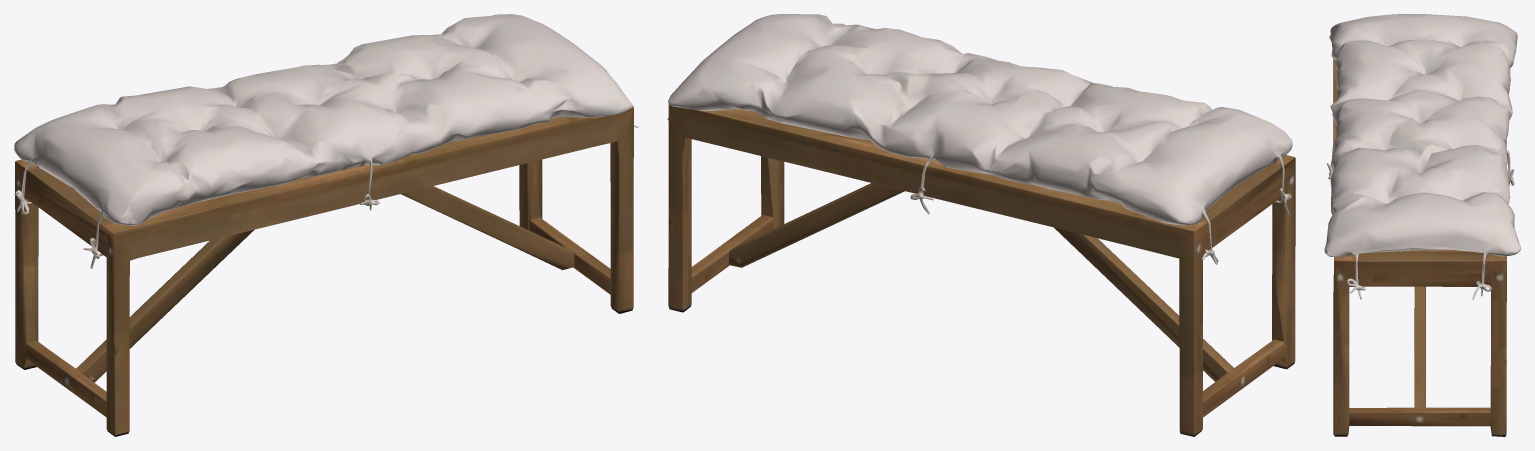
Rendered from nammaro_awka_z_poduszka_49575303.glb.
3 renders of one model, left to right at view 1: azimuth 30°, elevation 25°; view 2: azimuth 150°, elevation 25°; view 3: azimuth 270°, elevation 25°, orthographic. The views are drawn at different scales.
Visible parts, largest first — view 1: nammaro_awka_z_poduszka_49575303; view 2: nammaro_awka_z_poduszka_49575303; view 3: nammaro_awka_z_poduszka_49575303.
Part boxes in pixels (x1,y1,x2,y2): nammaro_awka_z_poduszka_49575303: [14, 14, 638, 436]; nammaro_awka_z_poduszka_49575303: [667, 14, 1295, 436]; nammaro_awka_z_poduszka_49575303: [1324, 14, 1520, 436].
Size of the model in its own units: 1.27 by 0.554 by 0.4529.
2 materials, 2 textured.
